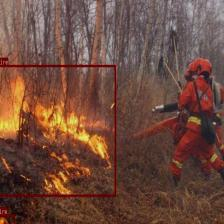fire: (0, 64, 116, 196), (0, 214, 14, 224)
